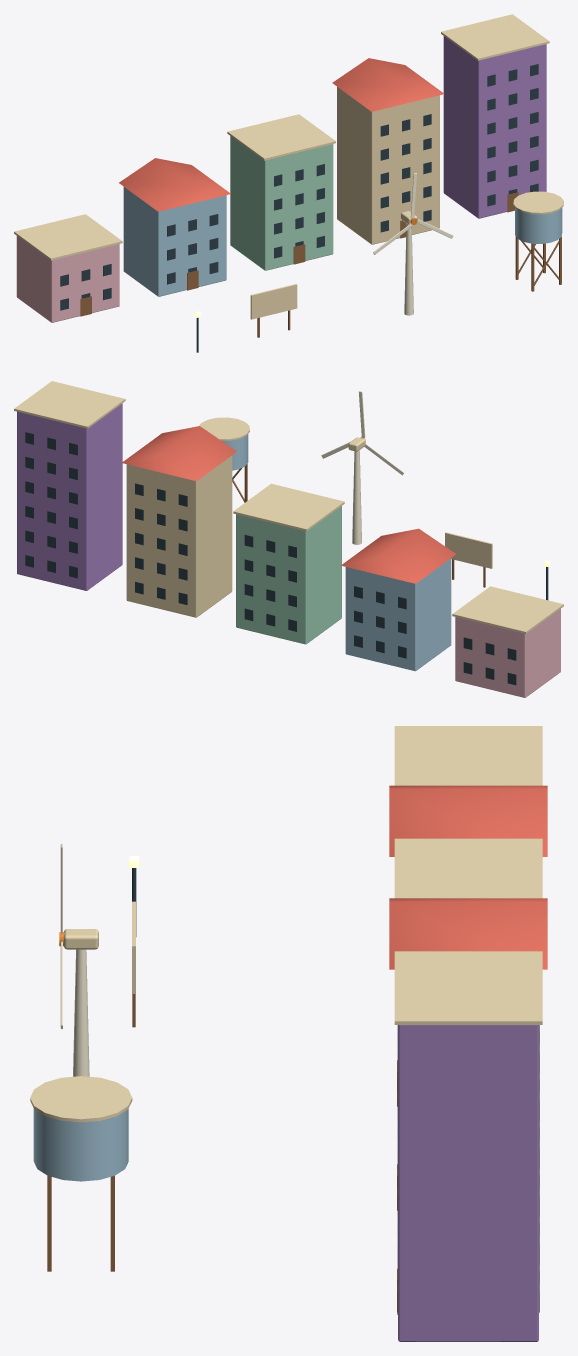
The model's file is landmark-kit.glb.
3 renders of one model, top to bottom at view 1: azimuth 30°, elevation 25°; view 2: azimuth 150°, elevation 25°; view 3: azimuth 270°, elevation 25°, orthographic. The views are drawn at different scales.
Parts seen in each view (by area): view 1: BuildingBody (×5), FlatRoof (×3), GableRoof (×2), Tank, BlankFace, TankRoof, Tower; view 2: BuildingBody (×5), FlatRoof (×3), GableRoof (×2), BlankFace, TankRoof, Tower, Tank; view 3: BuildingBody, FlatRoof (×3), GableRoof (×2), Tank, TankRoof, Tower.
Boxes of the visible parts, x1,y1,x2,y2 form: BuildingBody (×5): (16, 36, 546, 322); FlatRoof (×3): (14, 14, 549, 260); GableRoof (×2): (119, 58, 444, 211); Tank: (515, 207, 562, 243); BlankFace: (250, 284, 297, 319); TankRoof: (513, 191, 563, 214); Tower: (404, 223, 413, 315); BuildingBody (×5): (17, 403, 560, 697); FlatRoof (×3): (14, 381, 563, 633); GableRoof (×2): (122, 426, 455, 583); BlankFace: (445, 532, 492, 568); TankRoof: (199, 417, 249, 440); Tower: (352, 450, 361, 544); Tank: (222, 434, 248, 470); BuildingBody: (398, 1025, 538, 1341); FlatRoof (×3): (394, 726, 542, 1024); GableRoof (×2): (389, 785, 547, 969); Tank: (33, 1109, 128, 1181); TankRoof: (30, 1076, 132, 1122); Tower: (73, 949, 89, 1076).
Bounding box in the file's own units: 65.4 × 20.25 × 29.4.
